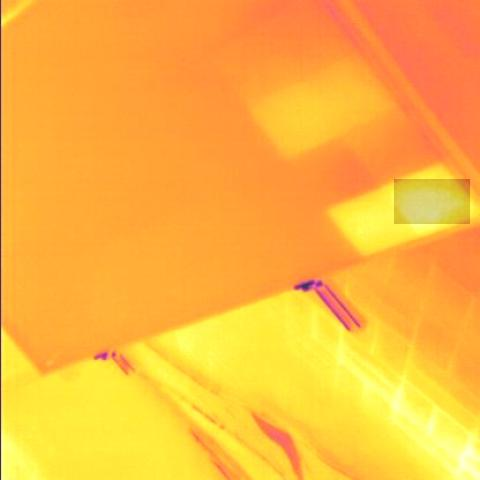fault: (394, 179, 470, 224)
